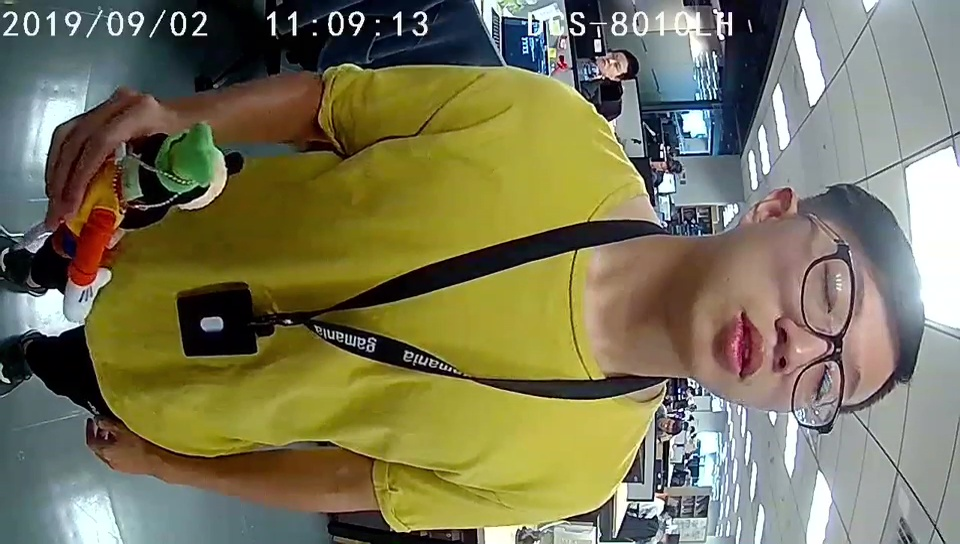goofy: (65, 119, 223, 323)
